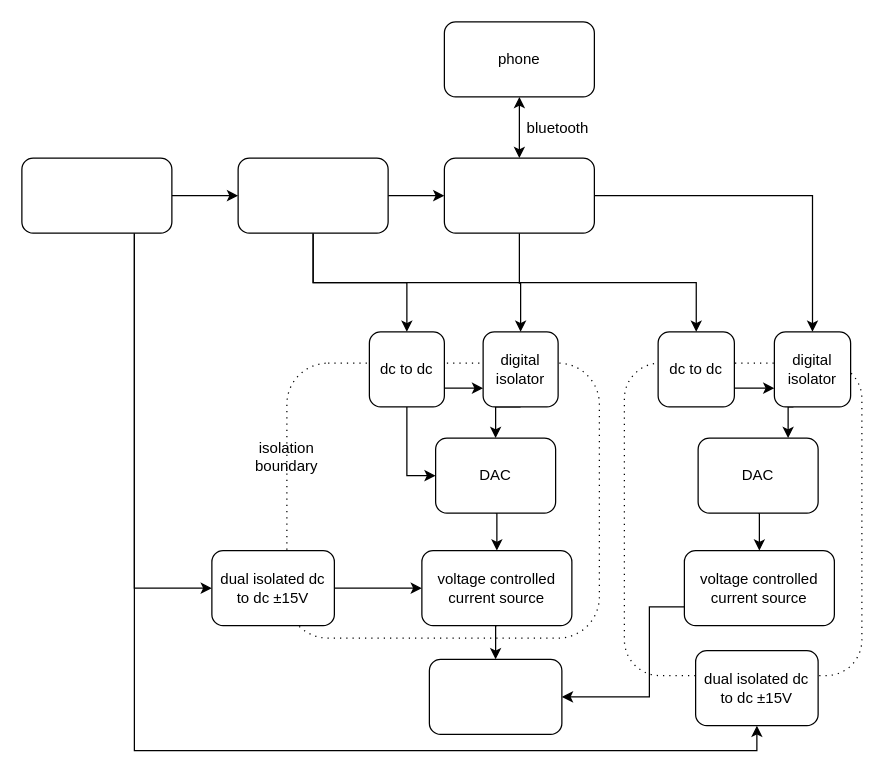
Image size: 884x783. Some labels were removed from this diagram. The shapes that lost their labels are listed below. From the top down, each one's centre as x and y in pixels, then its label:
the point at 96,195: Battery
the point at 312,195: Buck Converter to 3.3v
the point at 518,195: Pico 2
the point at 495,696: BRAIN
